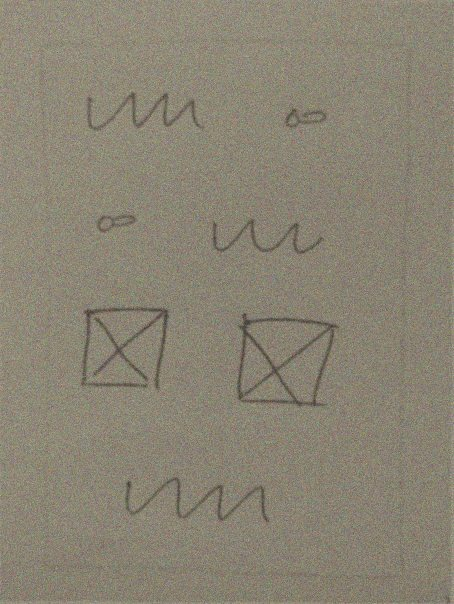image: (226, 308, 346, 415), (75, 298, 172, 397)
switch: (268, 96, 342, 141), (90, 198, 148, 245)
text: (114, 460, 273, 536), (80, 82, 217, 138), (203, 206, 327, 263)
